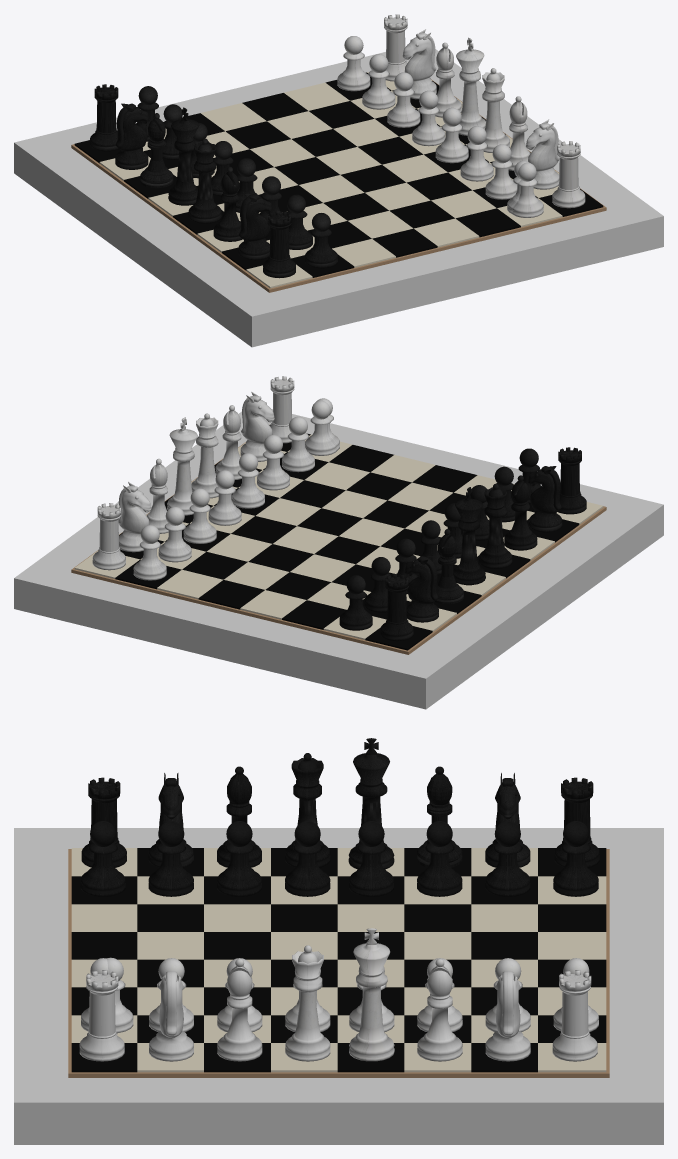
The model's file is white_pawn2.glb.
The picture shows the model from 3 angles, top to bottom: view 1: azimuth 30°, elevation 25°; view 2: azimuth 150°, elevation 25°; view 3: azimuth 270°, elevation 25°; orthographic projection. The views are drawn at different scales.
Visible parts, largest first — view 1: Chess Board, B_Knight_1, B_King, B_Knight_2, W_Knight_2, B_Queen, W_King, W_Knight_1, W_Rook_2, B_Rook_2, B_Rook_1, W_Queen (+20 smaller); view 2: Chess Board, B_King, B_Knight_2, B_Knight_1, B_Queen, W_Knight_1, W_King, W_Knight_2, B_Rook_1, W_Rook_1, B_Rook_2, W_Queen (+21 smaller); view 3: Chess Board, W_King, W_Queen, W_Rook_2, W_Rook_1, W_Bishop_2, W_Bishop_1, B_King, W_Knight_1, W_Knight_2, B_Pawn_5, B_Pawn_7 (+21 smaller).
Boxes of the visible parts, x1,y1,x2,y2 form: Chess Board: (14,49,663,347); B_Knight_1: (115,103,149,169); B_King: (168,107,199,205); B_Knight_2: (238,193,272,260); W_Knight_2: (526,119,559,189); B_Queen: (188,138,221,223); W_King: (456,37,485,135); W_Knight_1: (402,29,436,99); W_Rook_2: (552,141,585,208); B_Rook_2: (263,211,295,278); B_Rook_1: (90,84,118,151); W_Queen: (482,68,509,152); Chess Board: (14,409,663,709); B_King: (453,487,485,585); B_Knight_2: (528,466,562,532); B_Knight_1: (405,556,438,622); B_Queen: (479,483,512,568); W_Knight_1: (118,482,151,552); W_King: (167,417,197,515); W_Knight_2: (240,392,274,461); B_Rook_1: (380,574,413,640); W_Rook_1: (92,503,125,570); B_Rook_2: (557,447,586,514); W_Queen: (191,413,218,498); Chess Board: (14,828,663,1144); W_King: (349,928,394,1061); W_Queen: (285,945,330,1061); W_Rook_2: (79,970,124,1061); W_Rook_1: (552,970,597,1061); W_Bishop_2: (217,959,262,1061); W_Bishop_1: (417,959,462,1061); B_King: (348,738,394,869); W_Knight_1: (485,971,530,1061); W_Knight_2: (149,971,193,1061); B_Pawn_5: (285,821,330,896); B_Pawn_7: (148,821,193,896).
Bounding box in the file's own units: 17.78 × 5.28 × 17.78.
Materials: 6 (4 with a texture image).
